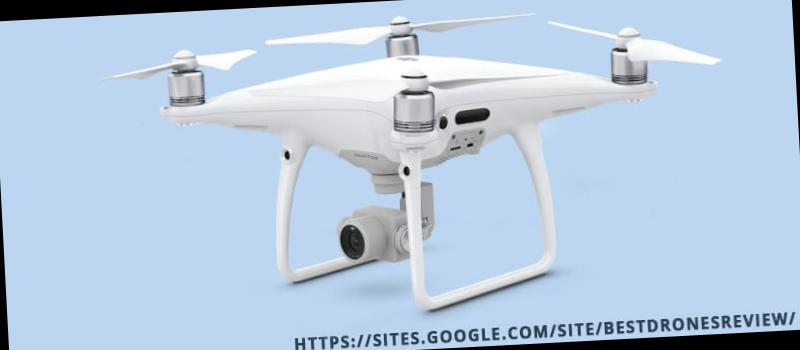drone: (143, 1, 744, 274)
